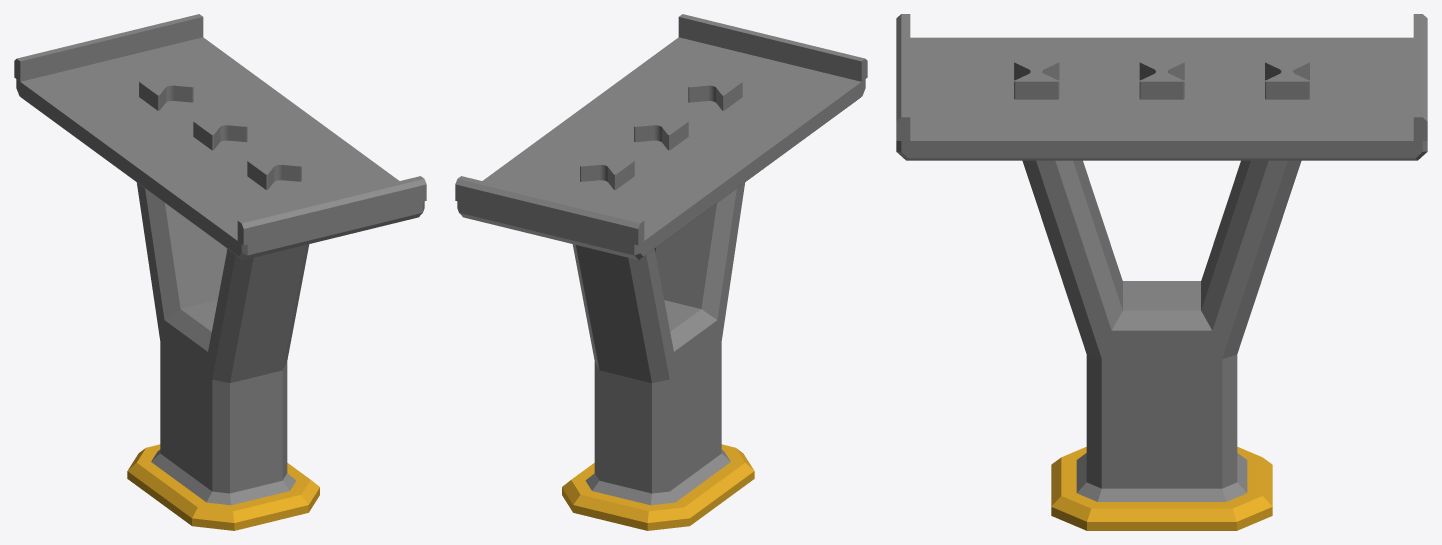
Rendered from 5x5 Sand Beam 6mm.obj.
3 views of the same model, side by side, from view 1: azimuth 30°, elevation 25°; view 2: azimuth 150°, elevation 25°; view 3: azimuth 270°, elevation 25° (orthographic). The views are drawn at different scales.
Visible parts, largest first — view 1: Körper1:1, Körper1:2, Körper1; view 2: Körper1:1, Körper1:2, Körper1; view 3: Körper1:1, Körper1:2, Körper1.
Boxes of the visible parts, left/top/right/bottom form: Körper1:1: left=14, top=14, right=426, bottom=260; Körper1:2: left=136, top=182, right=309, bottom=505; Körper1: left=127, top=444, right=319, bottom=530; Körper1:1: left=455, top=14, right=867, bottom=260; Körper1:2: left=572, top=182, right=745, bottom=505; Körper1: left=562, top=444, right=754, bottom=530; Körper1:1: left=896, top=14, right=1427, bottom=160; Körper1:2: left=1022, top=160, right=1301, bottom=501; Körper1: left=1051, top=447, right=1272, bottom=530.
Size of the model in its own units: 48.77 by 94 by 106.
